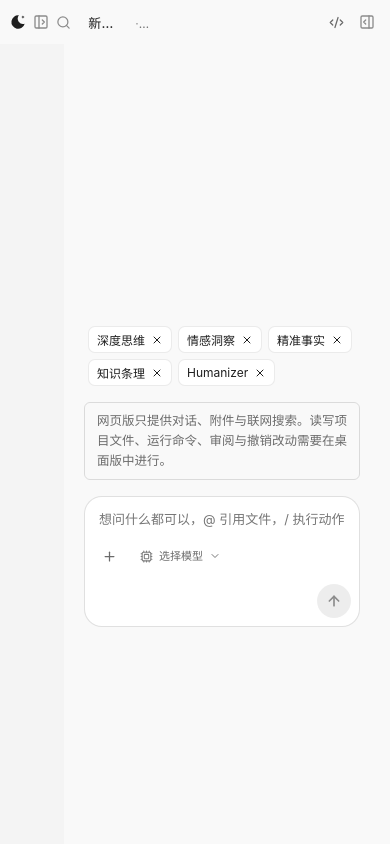
Scenario: App flows › offers an AI retry after a recoverable provider failure
Type "再试着回答一次" into the text box with placeholder "想问什么都可以，@ 引用文件，/ 执行动作" at coordinates (222, 520), box top-left (99, 510), bottom-right (345, 530)
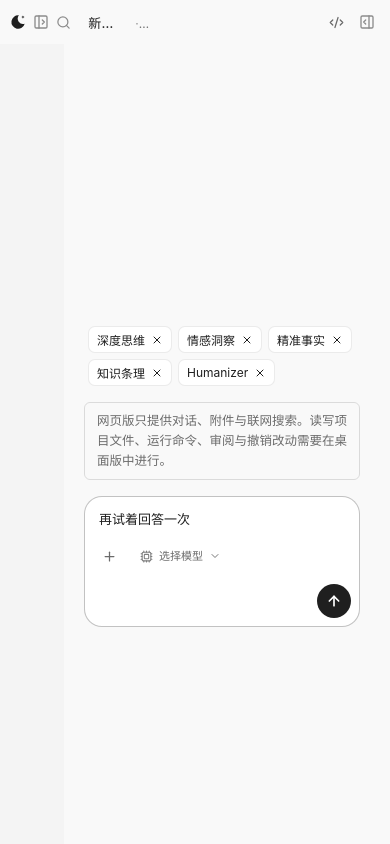
Click the button named "发送" at coordinates (334, 602), box top-left (317, 584), bottom-right (351, 618)
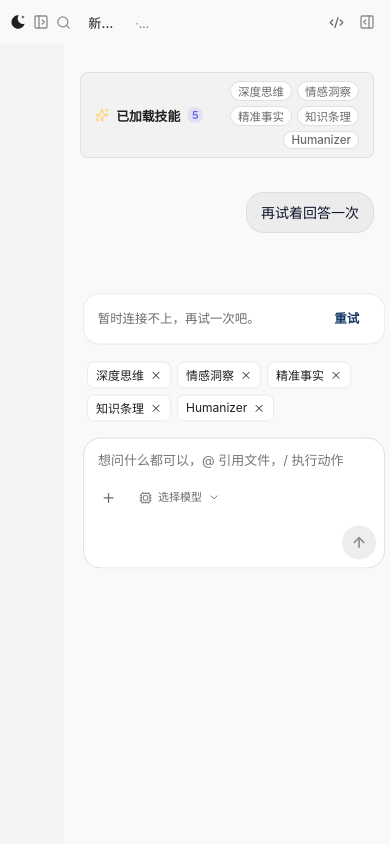
Expected: the button "重试" is shown, top-left (323, 303), bottom-right (370, 335)
